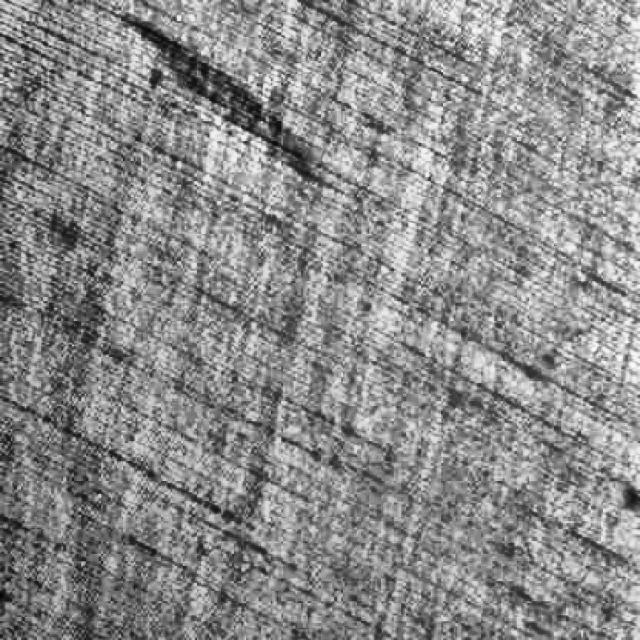oil_spot: (116, 4, 336, 206)
